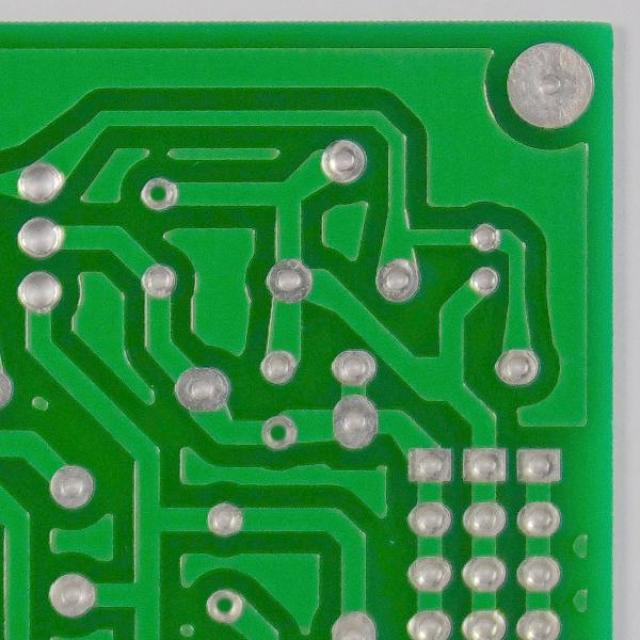Missing_Hole: (200, 586, 247, 626), (258, 412, 301, 453), (136, 174, 180, 212)
